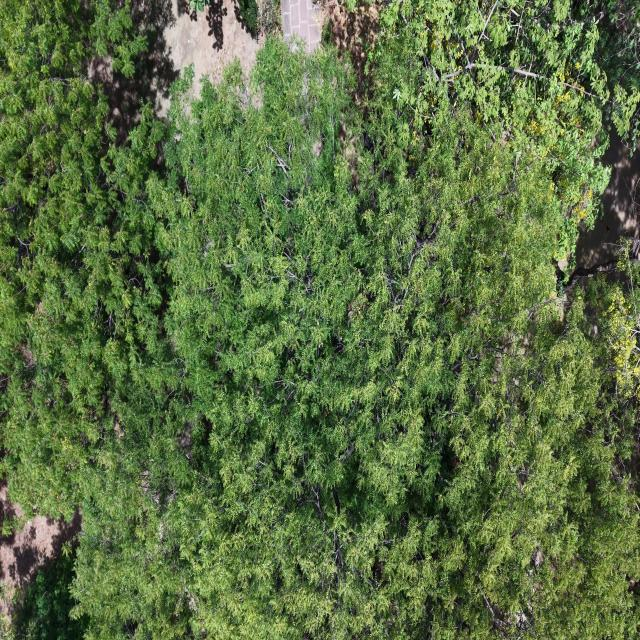DRY_AREA: (87, 0, 292, 143), (87, 0, 263, 142), (88, 0, 263, 141), (88, 0, 262, 136), (558, 131, 639, 304), (87, 0, 181, 143), (568, 132, 639, 287), (569, 131, 639, 284), (165, 0, 263, 93), (576, 133, 639, 270), (577, 138, 639, 269), (0, 514, 80, 615), (323, 0, 381, 104), (281, 0, 322, 52)
PATHWAYS: (282, 0, 321, 52)
VEGETATION_TREE: (0, 0, 639, 639), (149, 44, 637, 638), (0, 0, 163, 518), (369, 0, 639, 259), (14, 547, 87, 639), (235, 0, 258, 36), (237, 0, 260, 35), (189, 0, 209, 16)
